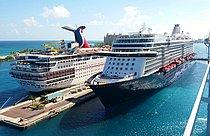Ship: (86, 22, 199, 115), (9, 25, 113, 94)
